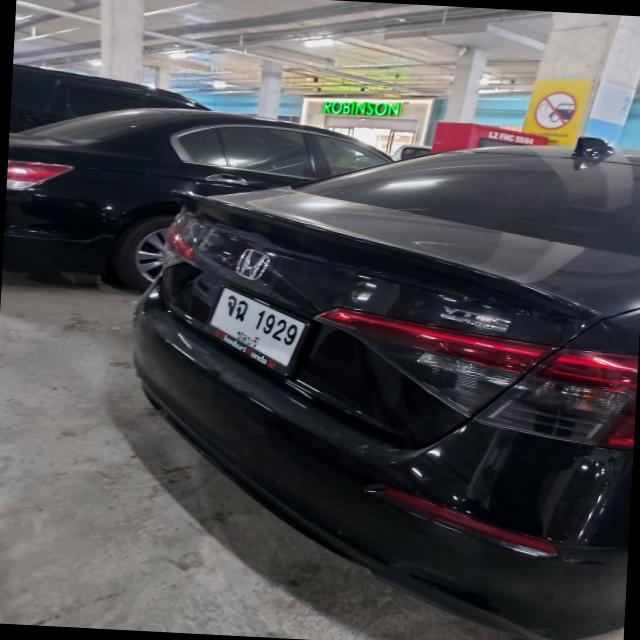license_plate: (210, 287, 307, 367)
